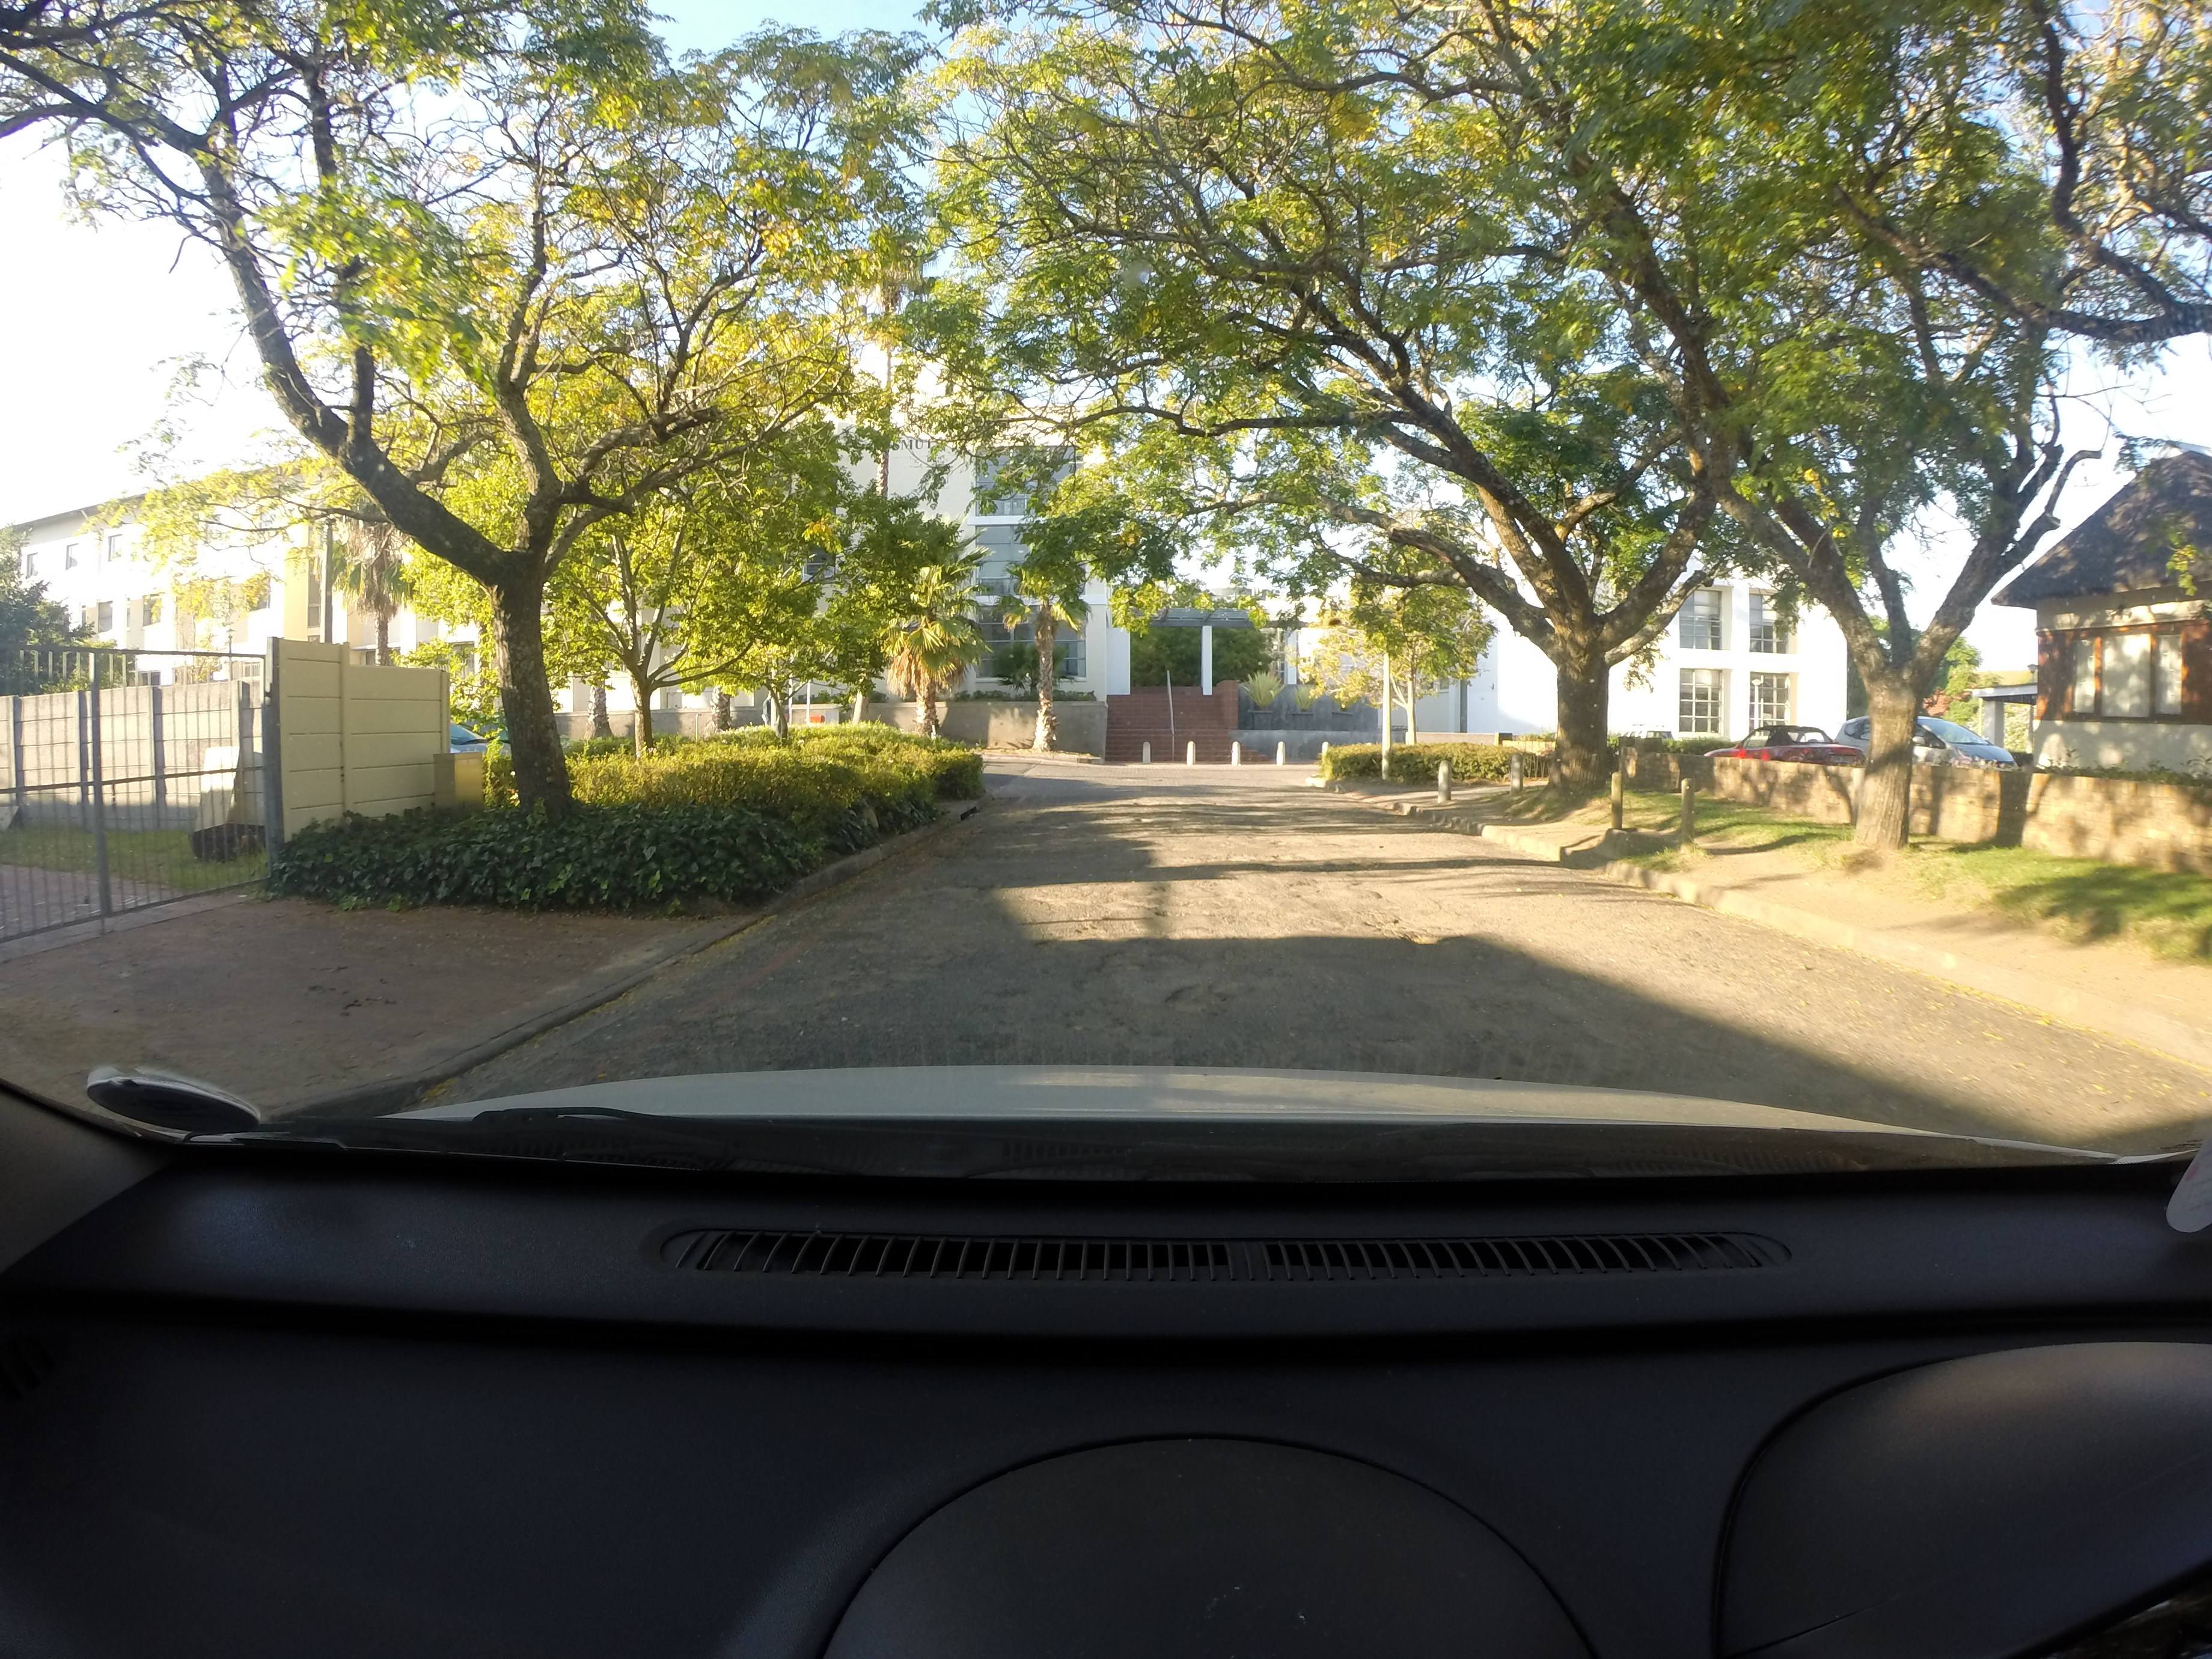pothole: (1040, 939, 1216, 1033), (1155, 978, 1226, 1018), (1378, 925, 1461, 957)
